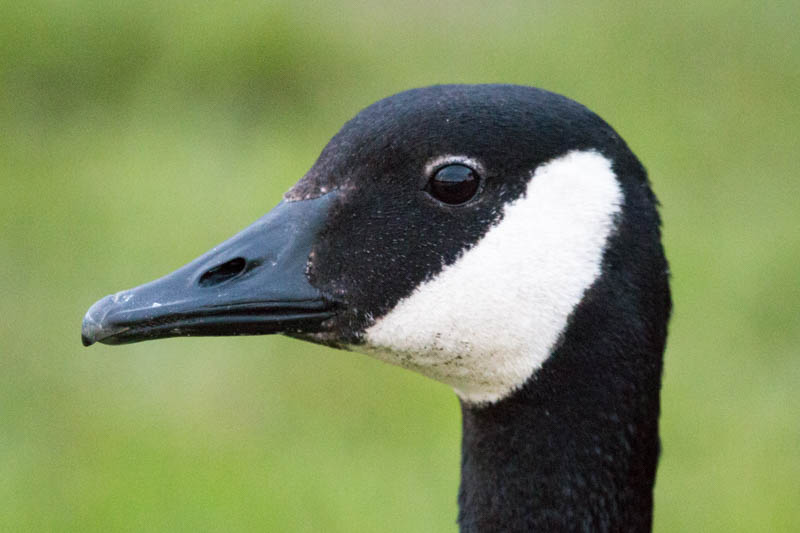goose-head: (80, 84, 674, 409)
